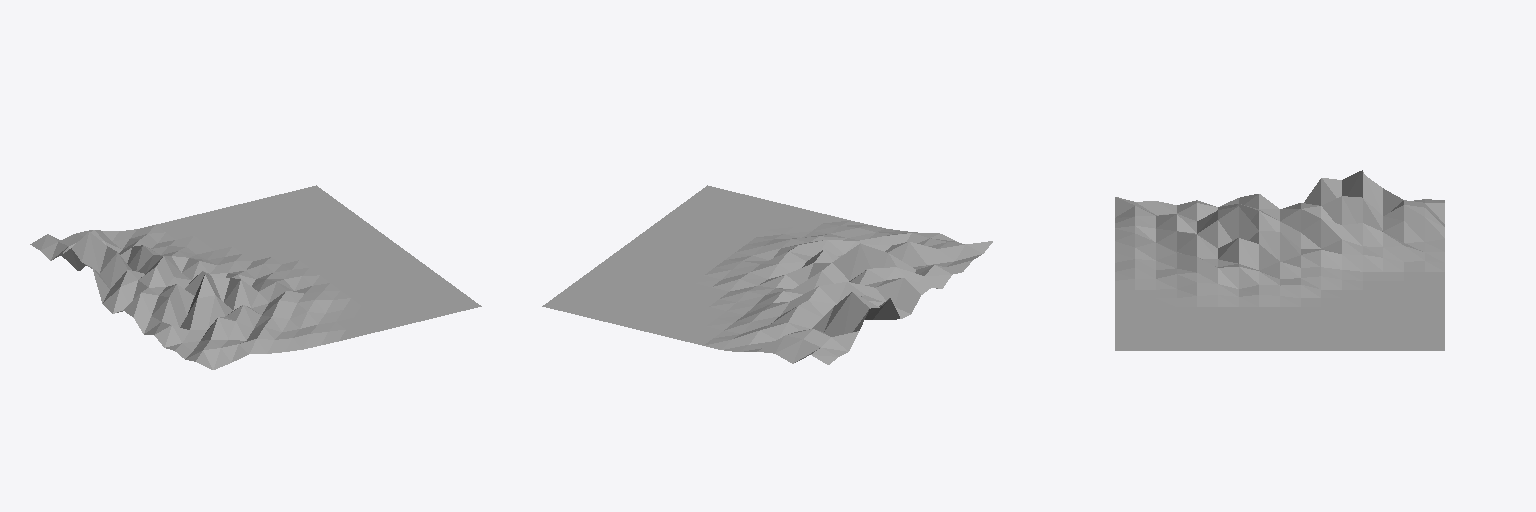
The picture shows the model from 3 angles: view 1: azimuth 30°, elevation 25°; view 2: azimuth 150°, elevation 25°; view 3: azimuth 270°, elevation 25°; orthographic projection.
Visible parts, largest first — view 1: Plane; view 2: Plane; view 3: Plane.
Part boxes in pixels (bbox=[...]): Plane: bbox=[30, 185, 481, 369]; Plane: bbox=[542, 185, 992, 364]; Plane: bbox=[1115, 170, 1444, 350].
Size of the model in its own units: 15.81 by 2.63 by 15.81.
1 materials, 1 textured.